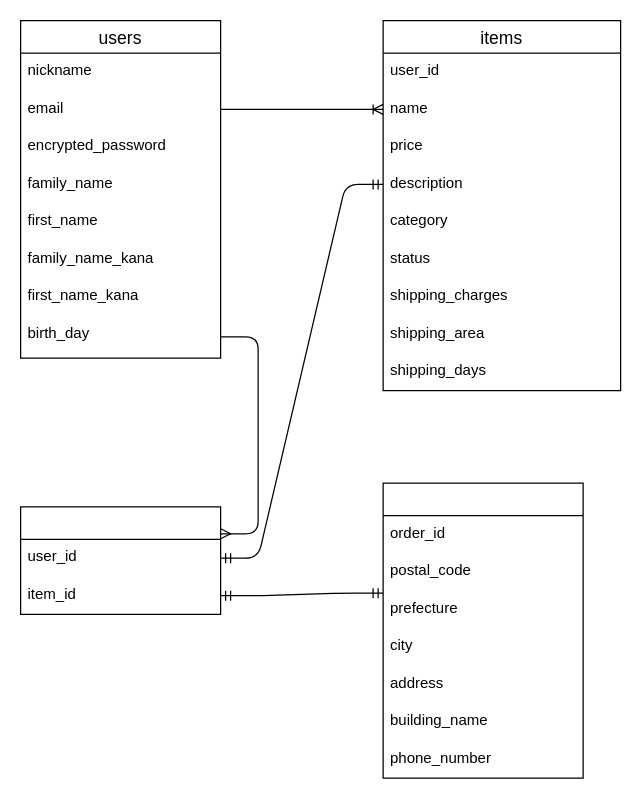
Some shapes in this 641 by 799 pixel diagram are drawn without their labels. Here are the shapes that lost their labels. From the top down, the box of each, then its label:
(19, 506, 221, 614): orders
(382, 482, 583, 778): addresses
